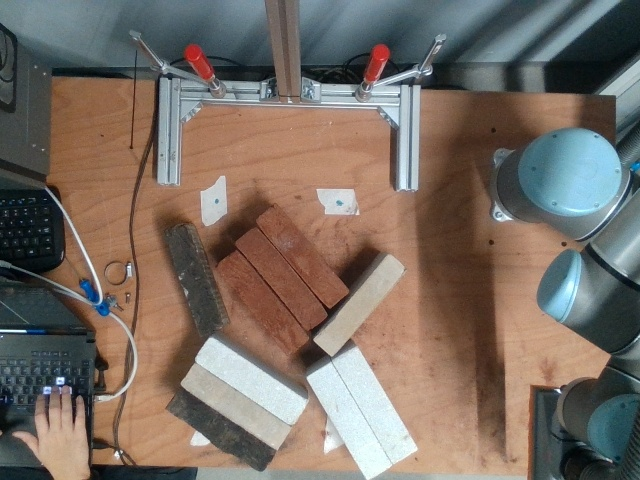brick-side: (309, 366, 390, 478), (197, 341, 304, 423), (181, 365, 288, 447), (336, 351, 414, 460), (168, 390, 273, 470), (238, 230, 325, 326), (258, 208, 344, 305), (219, 252, 305, 349), (317, 258, 404, 353), (166, 227, 218, 335)
